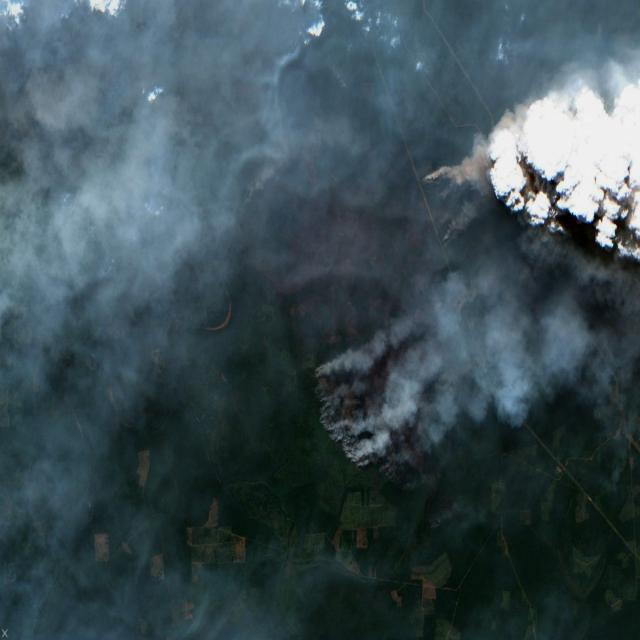fire: (305, 147, 502, 476)
